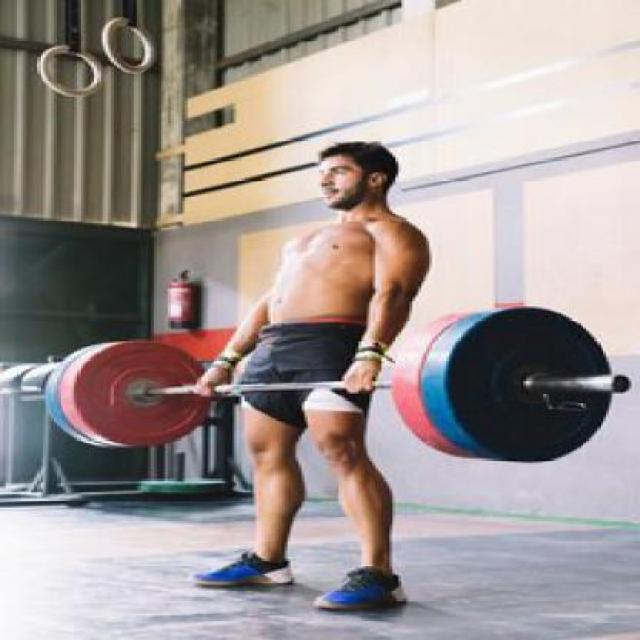barbell: (446, 298, 635, 469)
